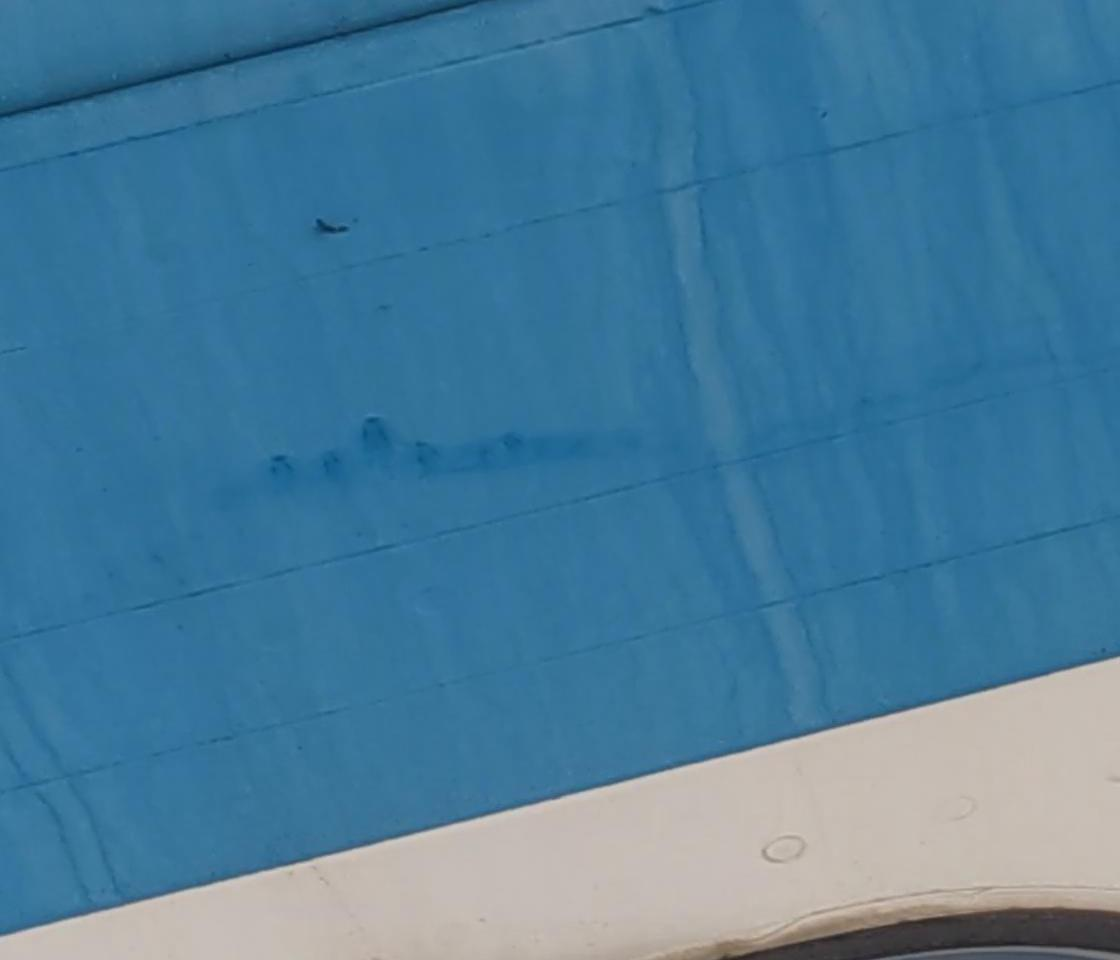scratch: (307, 217, 359, 244)
